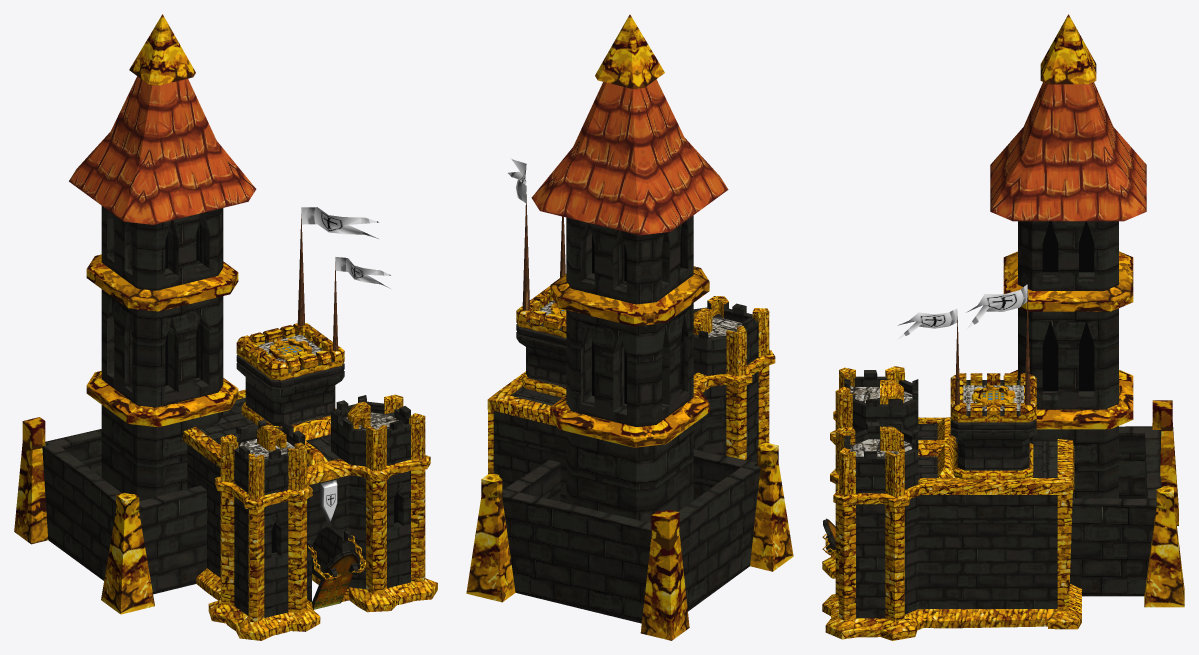
The model's file is cityHall_level3.FBX.
3 renders of one model, left to right at view 1: azimuth 30°, elevation 25°; view 2: azimuth 150°, elevation 25°; view 3: azimuth 270°, elevation 25°, orthographic. The views are drawn at different scales.
Visible parts, largest first — view 1: Box003, Box002, Box004, Object003, Object004, Cylinder006, Plane002; view 2: Box003, Box002, Box004, Object003; view 3: Box003, Box002, Box004, Object003, Object004, Cylinder006.
Boxes of the visible parts, left/top/right/bottom form: Box003: left=14, top=14, right=256, bottom=614; Box002: left=182, top=389, right=437, bottom=640; Box004: left=236, top=323, right=344, bottom=427; Object003: left=297, top=207, right=379, bottom=326; Object004: left=332, top=257, right=391, bottom=351; Cylinder006: left=269, top=338, right=311, bottom=360; Plane002: left=320, top=479, right=337, bottom=524; Box003: left=466, top=14, right=793, bottom=640; Box002: left=475, top=296, right=775, bottom=536; Box004: left=516, top=286, right=566, bottom=397; Object003: left=508, top=158, right=529, bottom=310; Box003: left=990, top=14, right=1184, bottom=607; Box002: left=822, top=366, right=1081, bottom=640; Box004: left=950, top=373, right=1036, bottom=479; Object003: left=966, top=284, right=1030, bottom=404; Object004: left=897, top=309, right=959, bottom=404; Cylinder006: left=971, top=384, right=1015, bottom=406.
Size of the model in its own units: 492 by 947 by 570.
8 materials, 7 textured.
